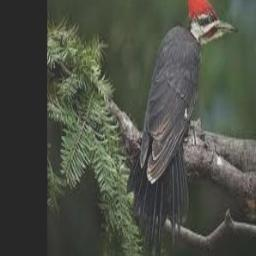Woodpecker: (128, 0, 236, 256)
